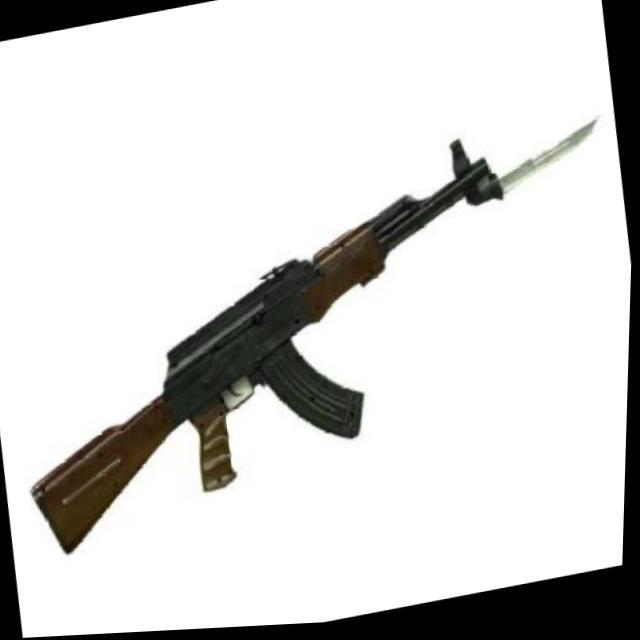weapon: (0, 114, 637, 563)
